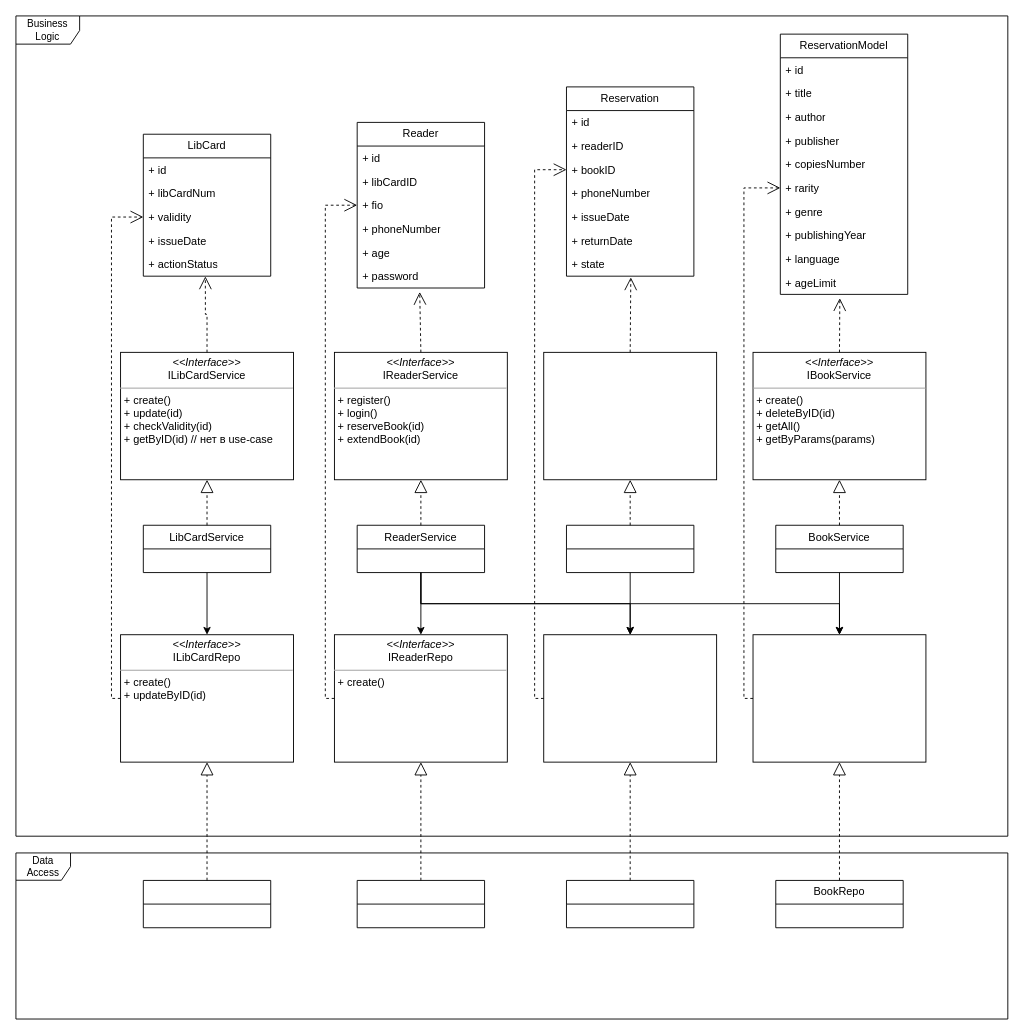
This 1024x1036 diagram has some shape labels left out. Here are the shapes that lost their labels. From the top down, the centre of each, then its label:
At (x=630, y=415): "<<Interface>> IReservationService + create() + updateByID(id)".
At (x=630, y=548): "ReservationService".
At (x=630, y=698): "<<Interface>> IReservationRepo + create() + updateByID(id)".
At (x=839, y=698): "<<Interface>> IBookRepo + create() + deleteByID(id) + getAllBooks()".
At (x=206, y=904): "LibCardRepo".
At (x=420, y=904): "ReaderRepo".
At (x=630, y=904): "ReservationRepo".
